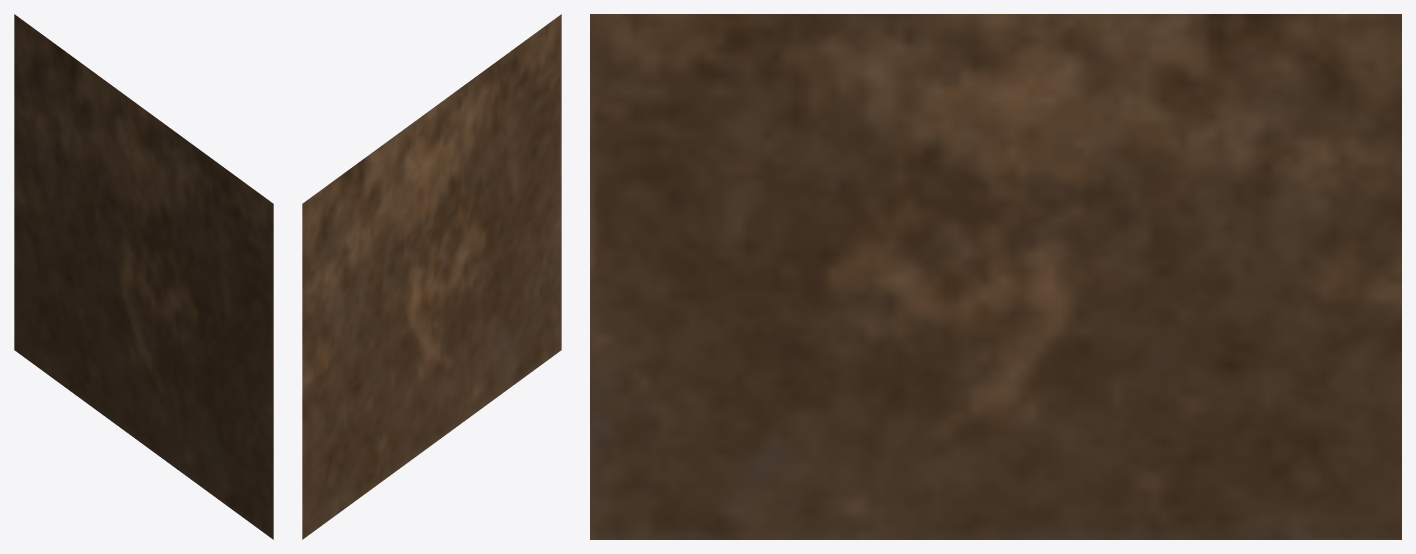
The model's file is wall.fbx.
The picture shows the model from 3 angles, left to right: view 1: azimuth 30°, elevation 25°; view 2: azimuth 150°, elevation 25°; view 3: azimuth 270°, elevation 25°; orthographic projection. The views are drawn at different scales.
Parts seen in each view (by area): view 1: Object003; view 2: Object003; view 3: Object003.
Part boxes in pixels (x1,y1,x2,y2): Object003: (14, 14, 273, 539); Object003: (302, 14, 561, 539); Object003: (590, 14, 1401, 539).
Bounding box in the file's own units: 0 × 436 × 610.
